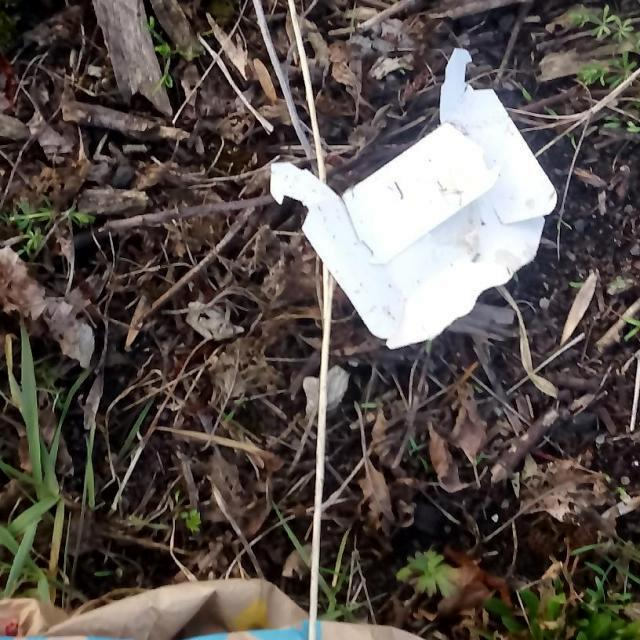Plastic: (267, 46, 559, 350)
